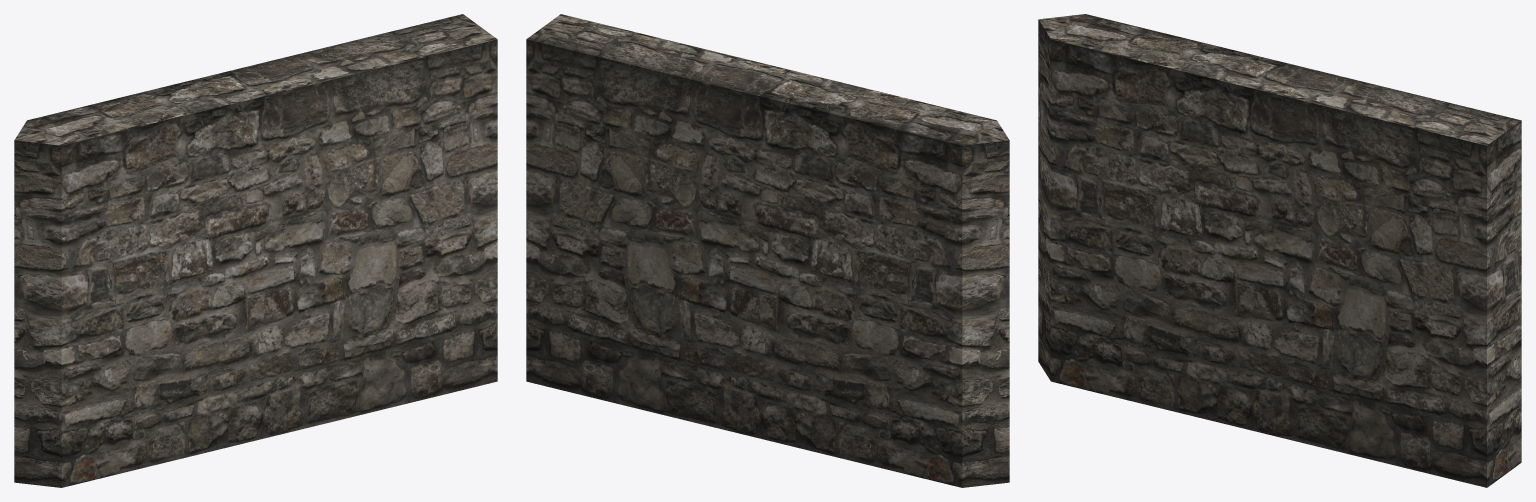
Rendered from House_Stone_Wall_Plain_Upper.dae.
3 views of the same model, side by side, from view 1: azimuth 30°, elevation 25°; view 2: azimuth 150°, elevation 25°; view 3: azimuth 330°, elevation 25° (orthographic).
Visible parts, largest first — view 1: StoneWallPlainUpper; view 2: StoneWallPlainUpper; view 3: StoneWallPlainUpper.
Boxes of the visible parts, x1,y1,x2,y2 form: StoneWallPlainUpper: (14, 14, 497, 487); StoneWallPlainUpper: (526, 14, 1009, 487); StoneWallPlainUpper: (1038, 14, 1521, 487).
Bounding box in the file's own units: 4.28 × 3.02 × 0.55.
1 material, 1 textured.
